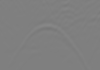hyperbola: (13, 22, 88, 64)
